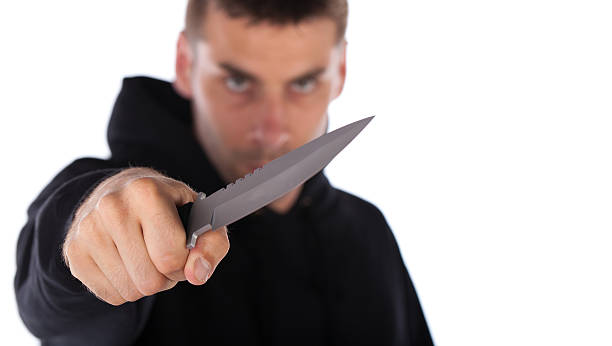knife: (176, 113, 378, 247)
